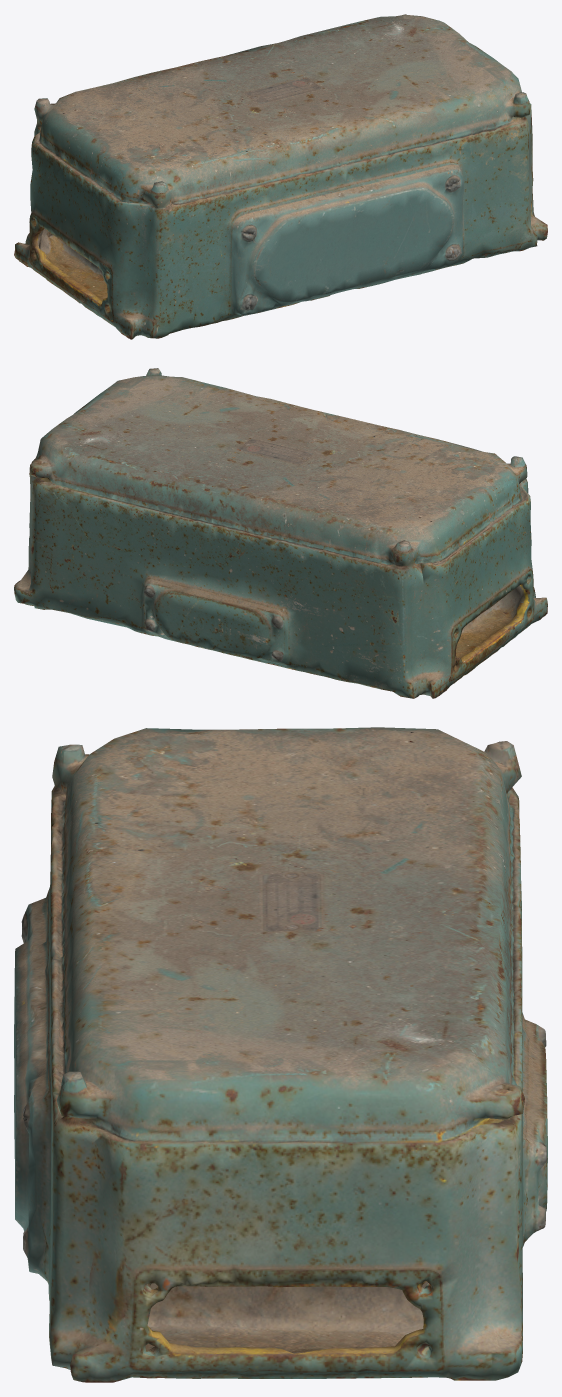
File: electric_box_36.glb
The picture shows the model from 3 angles, top to bottom: view 1: azimuth 30°, elevation 25°; view 2: azimuth 150°, elevation 25°; view 3: azimuth 270°, elevation 25°; orthographic projection. The views are drawn at different scales.
Parts seen in each view (by area): view 1: Aset_man_made_industrial_S_tdgtdedda_LOD0; view 2: Aset_man_made_industrial_S_tdgtdedda_LOD0; view 3: Aset_man_made_industrial_S_tdgtdedda_LOD0.
Part boxes in pixels (left/top/right/bottom): Aset_man_made_industrial_S_tdgtdedda_LOD0: left=14, top=14, right=547, bottom=339; Aset_man_made_industrial_S_tdgtdedda_LOD0: left=14, top=368, right=547, bottom=698; Aset_man_made_industrial_S_tdgtdedda_LOD0: left=14, top=727, right=547, bottom=1382.
Size of the model in its own units: 0.4 by 0.1425 by 0.2336.
Materials: 1 (1 with a texture image).
